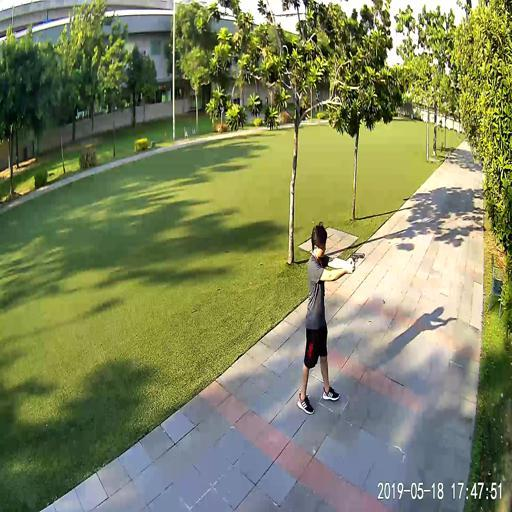Handgun: (348, 249, 364, 263)
